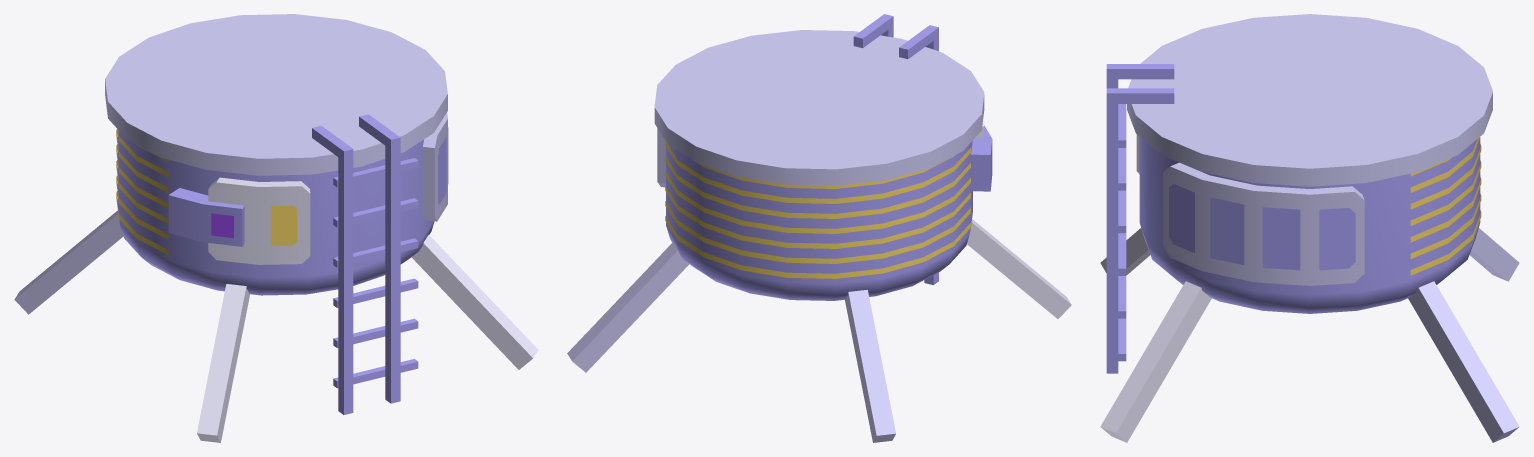
Rendered from Building_018_b.fbx.
3 views of the same model, side by side, from view 1: azimuth 30°, elevation 25°; view 2: azimuth 150°, elevation 25°; view 3: azimuth 270°, elevation 25° (orthographic). The views are drawn at different scales.
Visible parts, largest first — view 1: Building_018_b; view 2: Building_018_b; view 3: Building_018_b.
Boxes of the visible parts, x1=… form: Building_018_b: x1=14, y1=14, x2=538, y2=442; Building_018_b: x1=567, y1=14, x2=1071, y2=442; Building_018_b: x1=1100, y1=14, x2=1519, y2=442.
Size of the model in its own units: 8.55 by 6.31 by 8.55.
